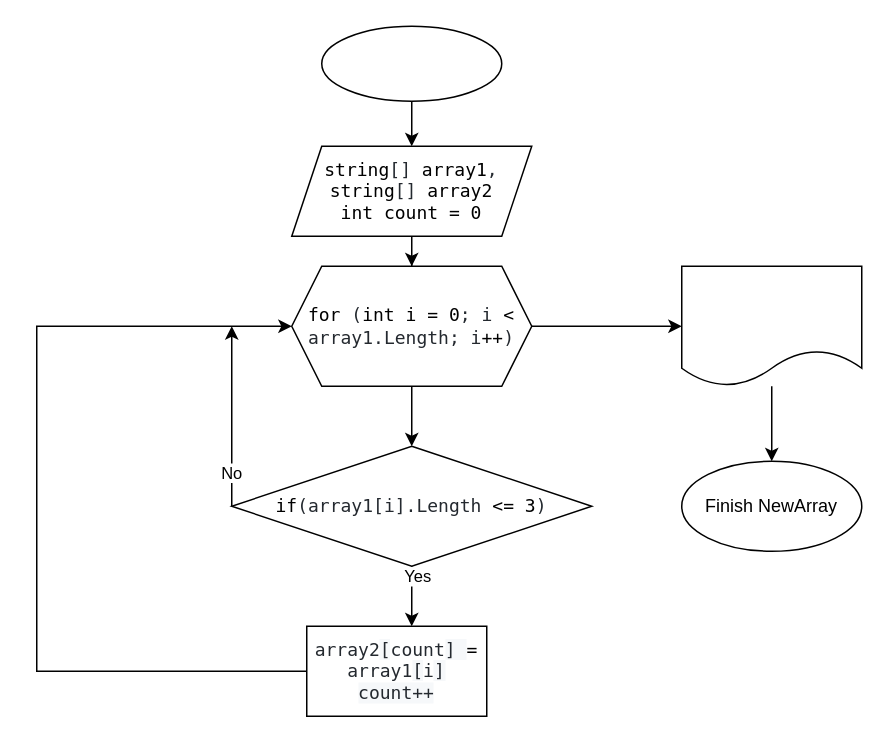
This 888x743 diagram has some shape labels left out. Each missing label, with the centre of its shape:
array2[count]: the point at 771,325
Start NewArray: the point at 411,63
